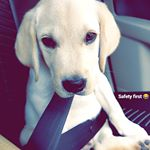puppy: (11, 1, 125, 148)
